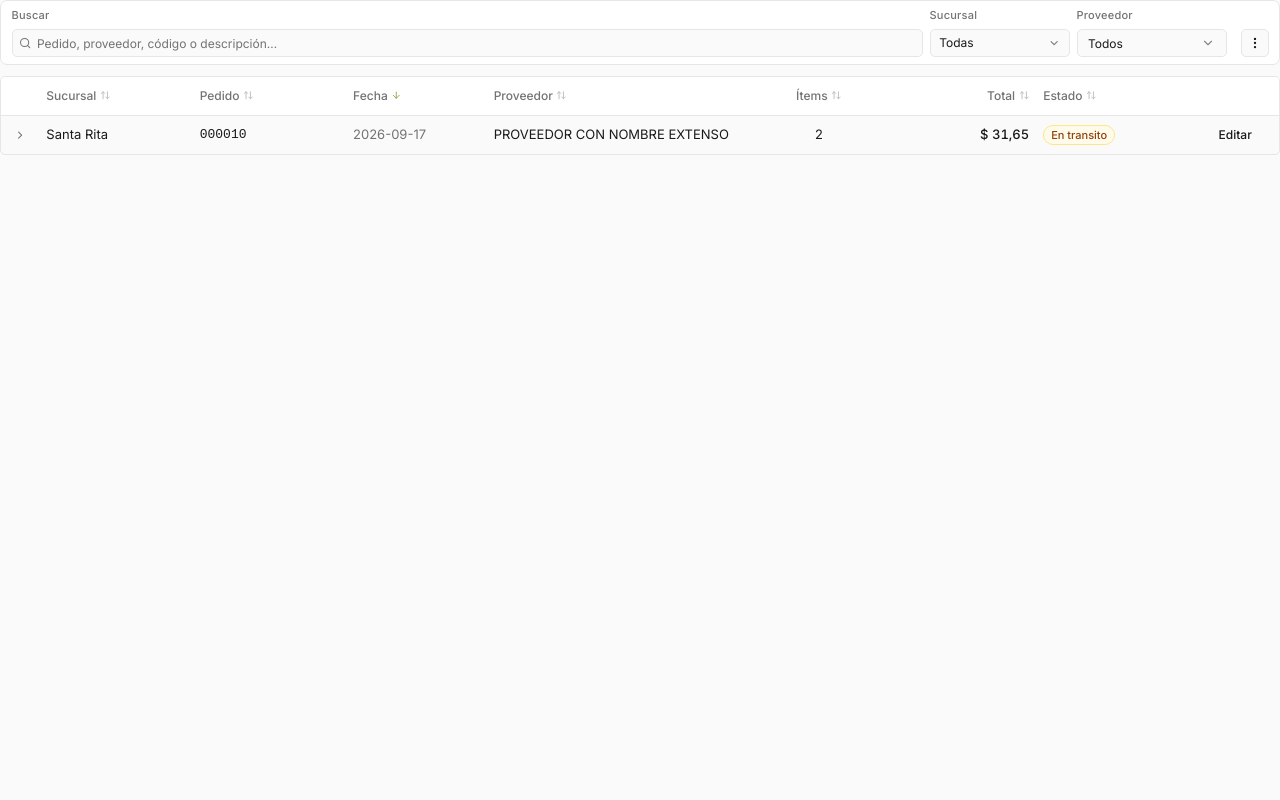
Scenario: purchase table presentation › keeps secondary fields accessible by code without stacking table records
Later steps or results of the test are not shown.
What coordinates should you click on to do the following:
click the button named "Ítems del pedido 000010 (Santa Rita)"
I would click on:
 (20, 135)
Its box is [1, 129, 39, 141].
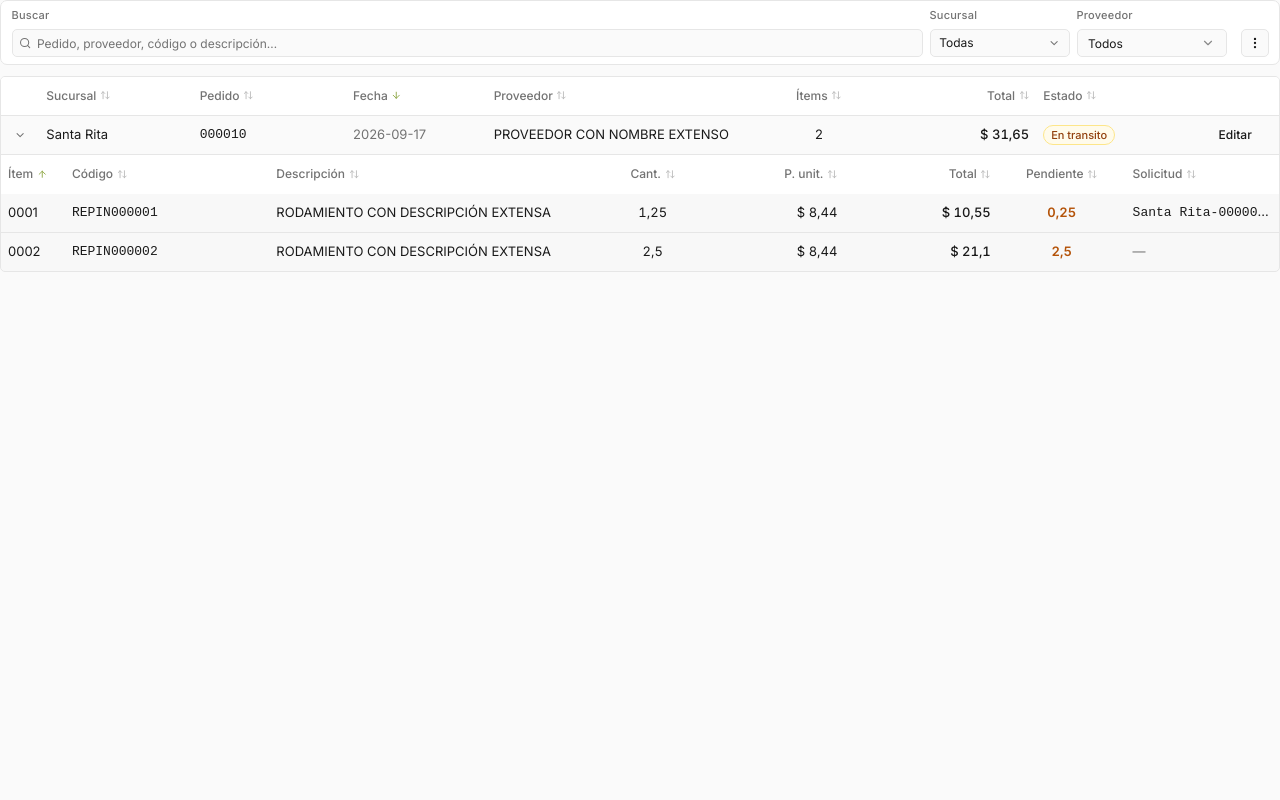
What coordinates should you click on to do the following:
click the button with aria-label "Detalle REPIN000001"
I would click on:
 (115, 213)
Its box is [72, 204, 158, 221].
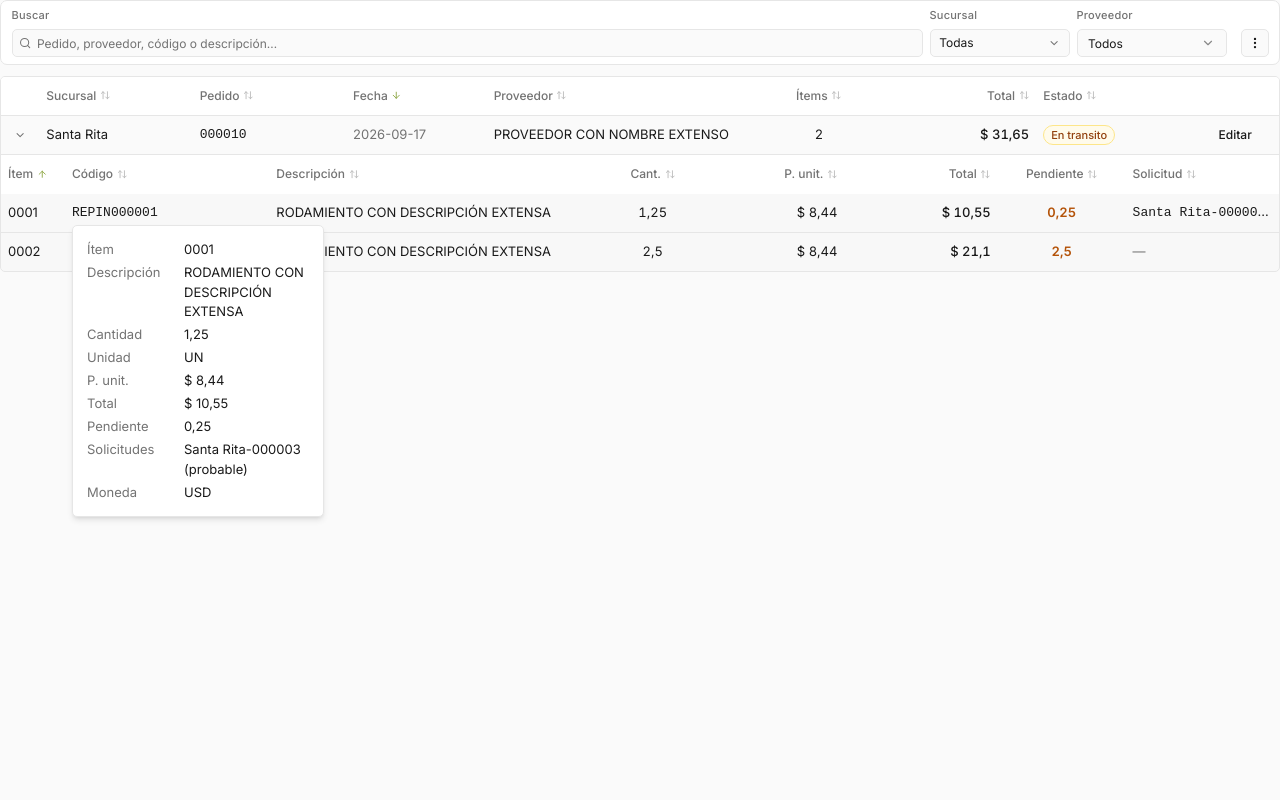
Now the dialog named "Detalle REPIN000001" shows "Santa Rita-000003 (probable)", box [184, 441, 301, 476]
Now the dialog named "Detalle REPIN000001" shows "$ 8,44", box [184, 372, 224, 388]
